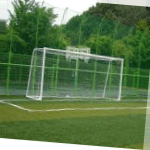goals: (25, 46, 126, 105)
